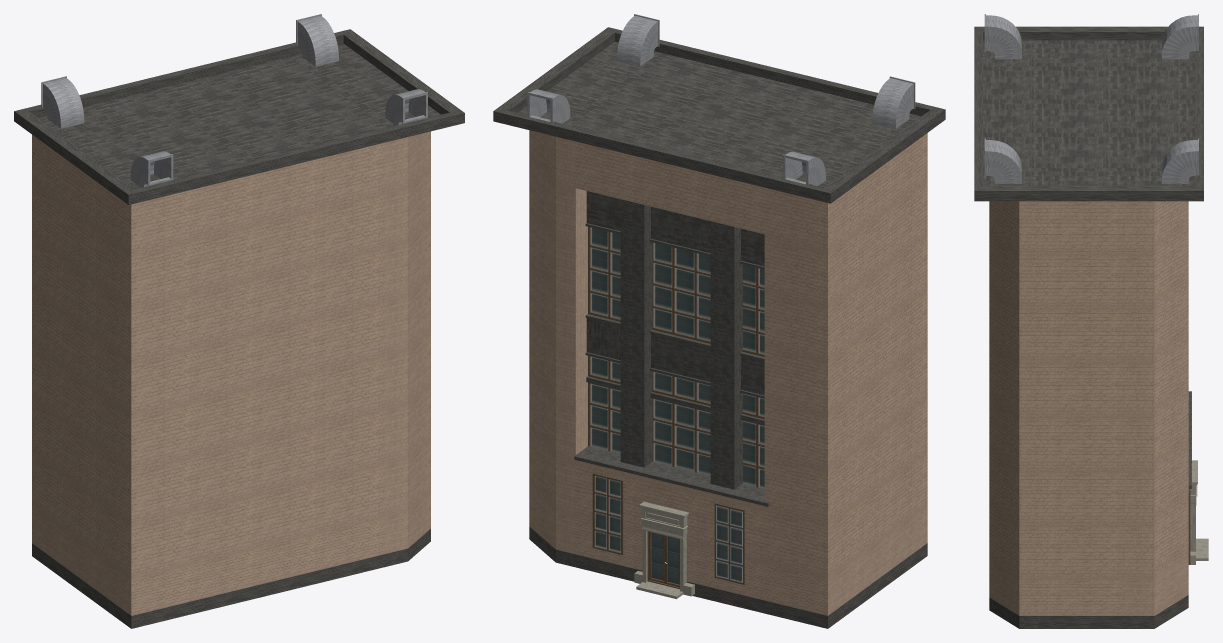
The picture shows the model from 3 angles, left to right: view 1: azimuth 30°, elevation 25°; view 2: azimuth 150°, elevation 25°; view 3: azimuth 270°, elevation 25°; orthographic projection.
Parts seen in each view (by area): view 1: bina.011; view 2: bina.011; view 3: bina.011.
Part boxes in pixels (box(x1,y1,x2,y2)): bina.011: box(14, 14, 464, 628); bina.011: box(493, 14, 945, 628); bina.011: box(974, 14, 1208, 628).
Bounding box in the file's own units: 20.77 × 27.55 × 12.51.
1 material, 1 textured.
